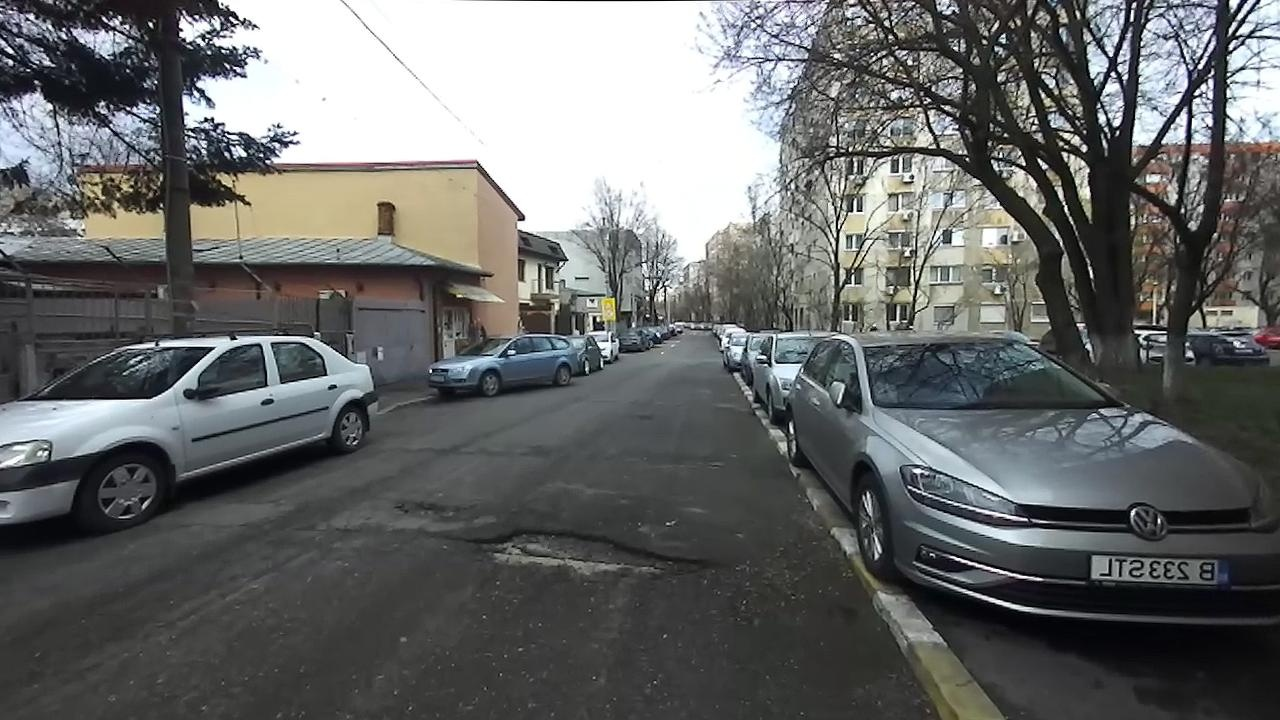pothole: (434, 525, 719, 583), (386, 490, 475, 515)
